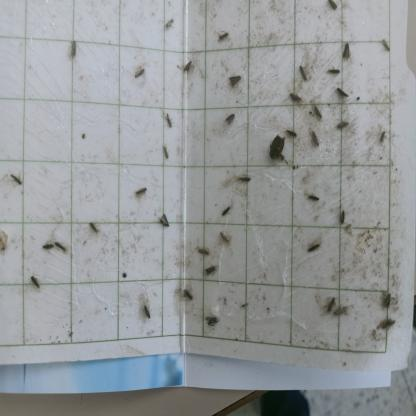prays_oleae: (152, 207, 174, 239), (373, 317, 402, 341), (127, 62, 152, 88), (304, 232, 326, 261), (180, 51, 198, 86), (331, 299, 355, 324), (162, 108, 182, 136), (373, 124, 388, 158), (334, 111, 352, 138), (307, 103, 331, 123), (224, 103, 241, 131), (137, 298, 154, 326), (6, 171, 28, 192), (337, 35, 354, 62), (66, 36, 84, 61), (28, 269, 44, 297), (226, 65, 243, 91), (134, 178, 151, 204), (197, 235, 213, 262), (236, 164, 254, 188), (324, 293, 338, 321), (380, 289, 394, 317), (333, 80, 351, 101), (378, 33, 393, 58), (285, 123, 300, 147), (297, 62, 312, 85), (85, 217, 104, 235), (288, 82, 300, 110), (306, 129, 321, 151), (325, 61, 341, 81), (327, 0, 343, 20), (159, 138, 172, 162), (206, 261, 220, 283), (219, 227, 233, 248), (54, 238, 67, 260), (218, 200, 233, 219), (42, 237, 56, 255), (214, 32, 231, 46), (184, 289, 198, 306), (302, 195, 321, 206), (166, 16, 179, 30), (339, 201, 346, 227)
